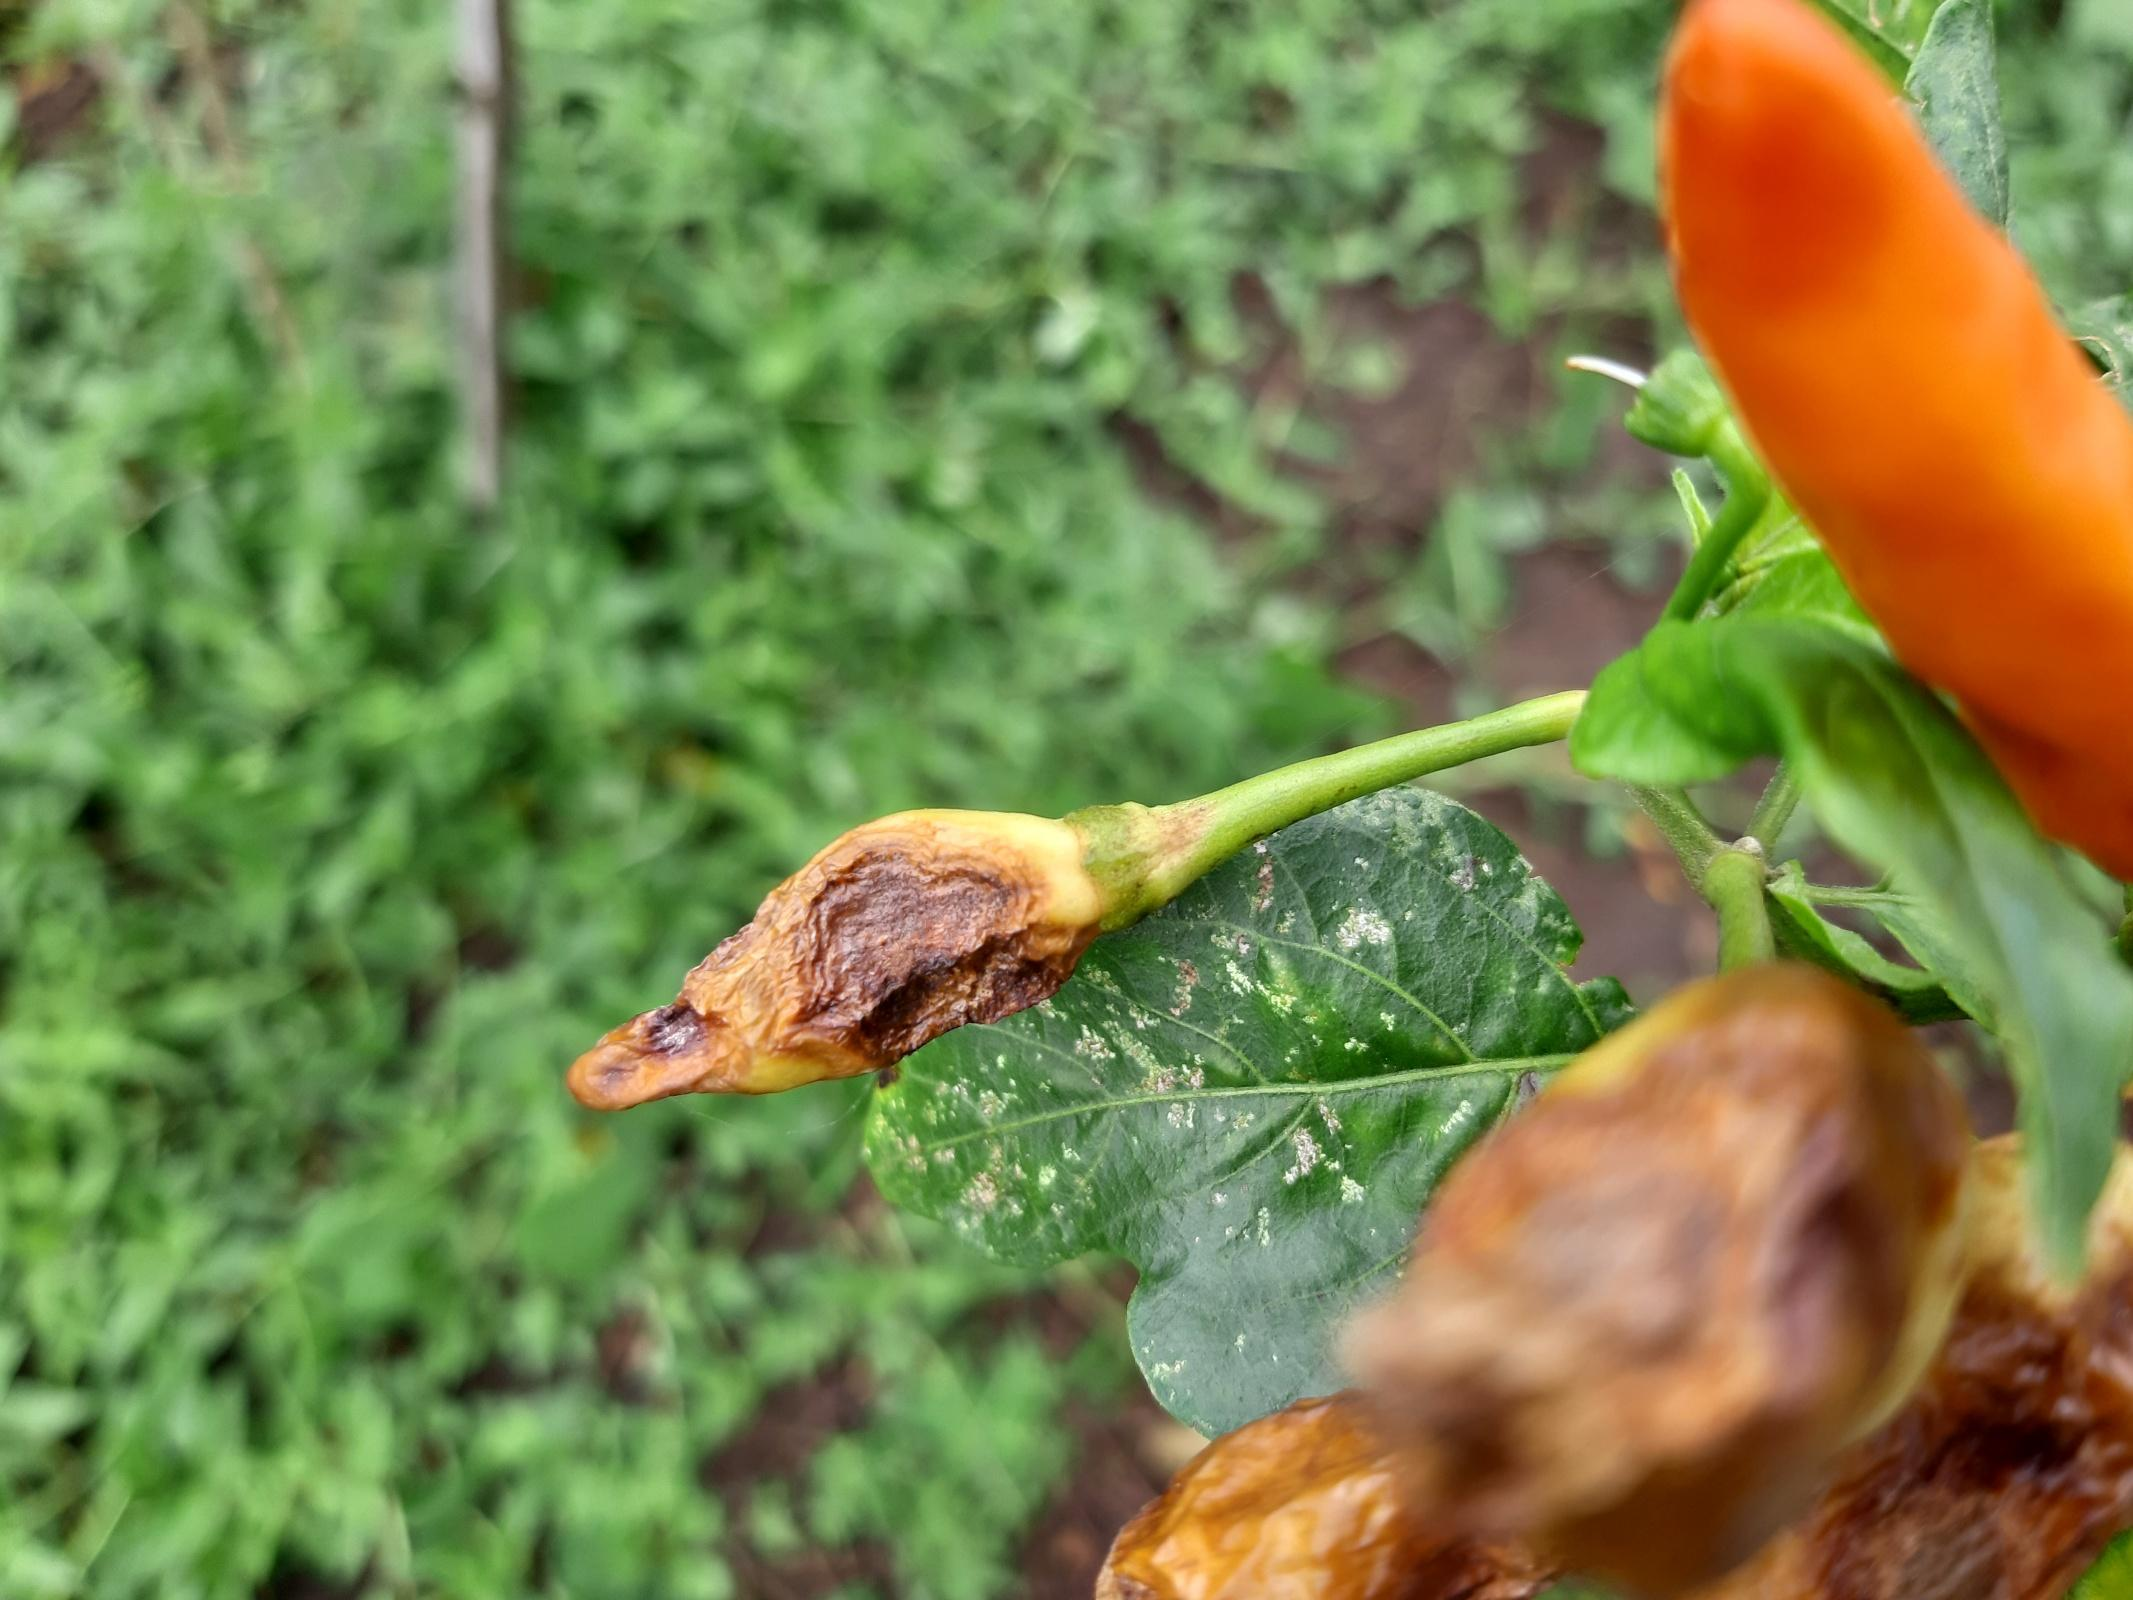antraknosa: (1413, 958, 1973, 1578), (569, 807, 1109, 1108)
cabai_normal: (1666, 4, 2133, 879)
